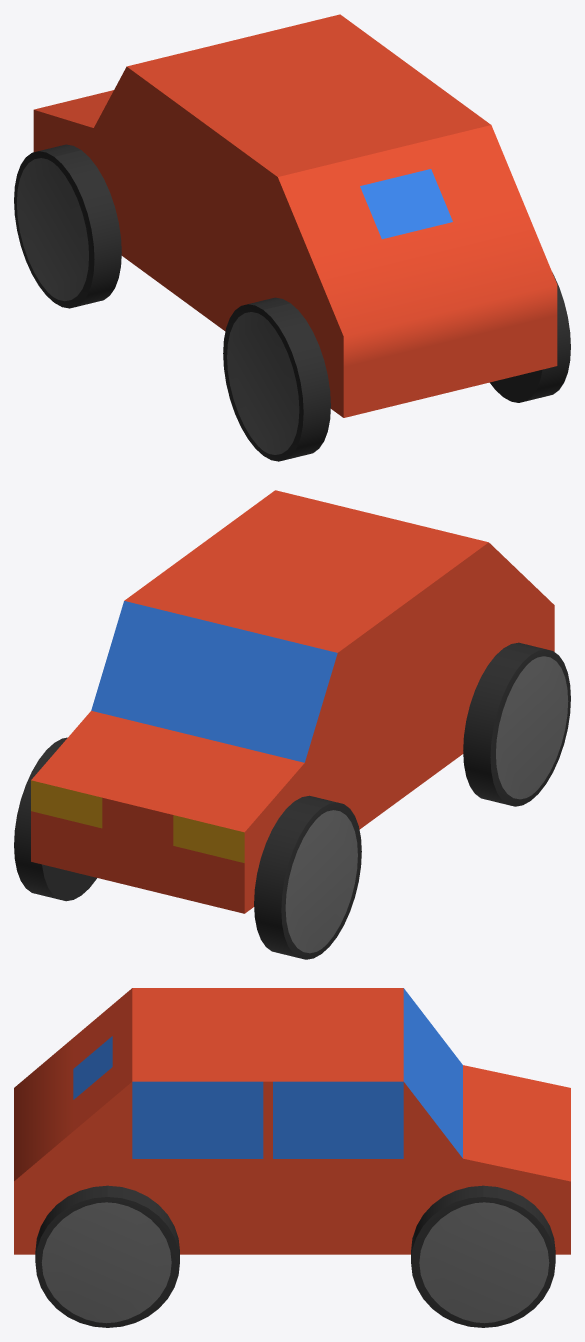
Rendered from Low poly car.gltf.
3 views of the same model, one above another, from view 1: azimuth 30°, elevation 25°; view 2: azimuth 150°, elevation 25°; view 3: azimuth 270°, elevation 25° (orthographic). The views are drawn at different scales.
Parts seen in each view (by area): view 1: Cube; view 2: Cube; view 3: Cube.
Boxes of the visible parts, <box> form: Cube: <box>14,14,570,461</box>; Cube: <box>14,490,570,959</box>; Cube: <box>14,988,570,1327</box>.
Size of the model in its own units: 2.52 by 2.34 by 5.03.
